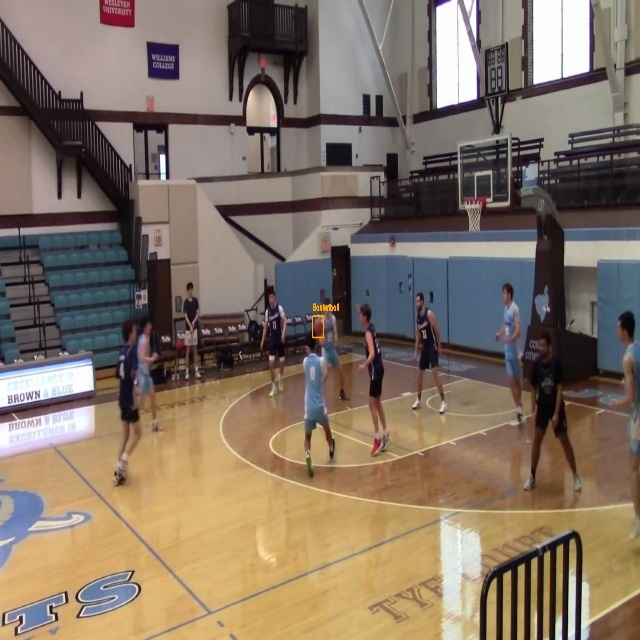Basketball: (313, 316, 324, 337)
